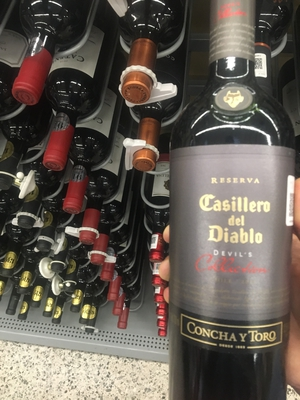casillero del diablo devils collection rojo: (164, 13, 300, 398)
